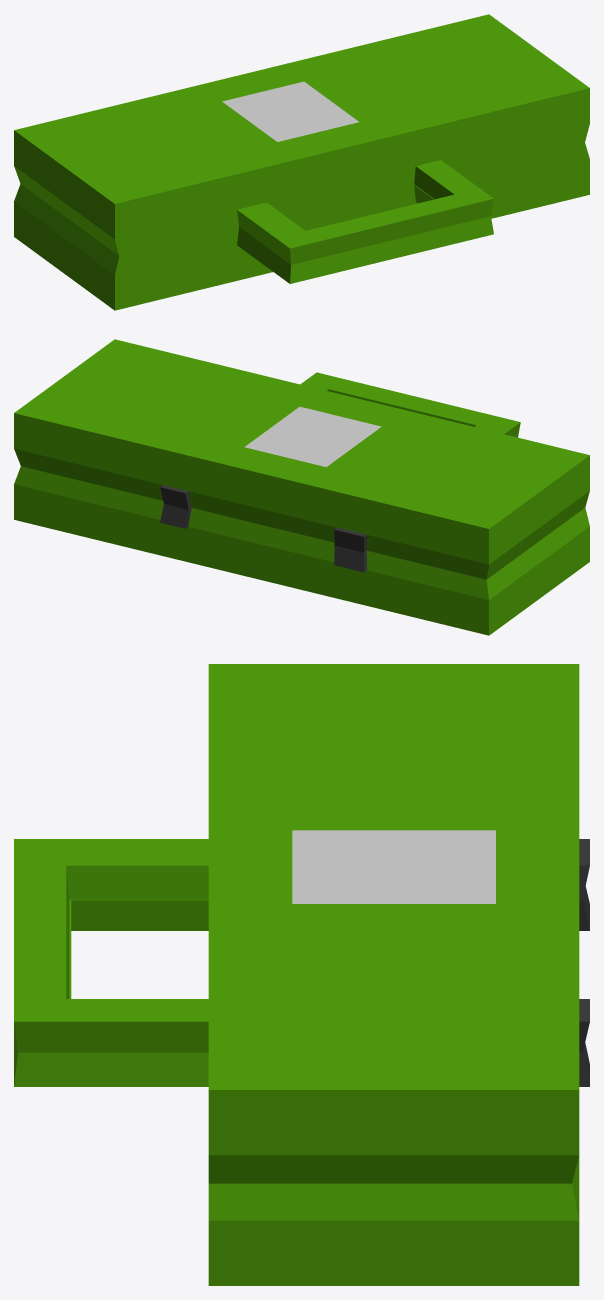
File: walizka.fbx
3 renders of one model, top to bottom at view 1: azimuth 30°, elevation 25°; view 2: azimuth 150°, elevation 25°; view 3: azimuth 270°, elevation 25°, orthographic. The views are drawn at different scales.
Parts seen in each view (by area): view 1: Cube; view 2: Cube; view 3: Cube.
Part boxes in pixels (x1,y1,x2,y2): Cube: (14, 14, 589, 310); Cube: (14, 339, 589, 635); Cube: (14, 664, 589, 1285).
Bounding box in the file's own units: 544 × 117 × 311.
